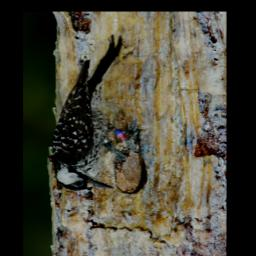Woodpecker: (49, 35, 139, 191)
